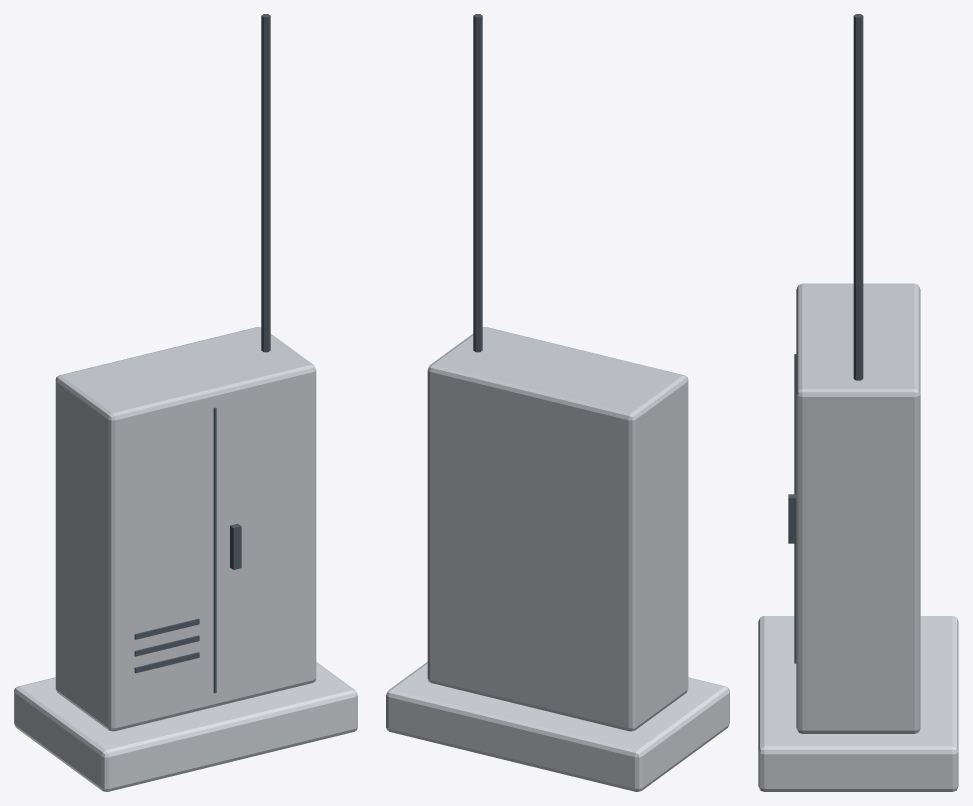
The model's file is plc-cabinet.glb.
The picture shows the model from 3 angles, left to right: view 1: azimuth 30°, elevation 25°; view 2: azimuth 150°, elevation 25°; view 3: azimuth 270°, elevation 25°; orthographic projection. The views are drawn at different scales.
Parts seen in each view (by area): view 1: CabinetBody, CabinetPlinth, CabinetDetails; view 2: CabinetBody, CabinetPlinth, CabinetDetails; view 3: CabinetBody, CabinetPlinth, CabinetDetails.
Boxes of the visible parts, x1,y1,x2,y2 form: CabinetBody: [55, 327, 316, 731]; CabinetPlinth: [14, 662, 357, 791]; CabinetDetails: [134, 14, 270, 693]; CabinetBody: [427, 327, 688, 731]; CabinetPlinth: [386, 662, 729, 791]; CabinetDetails: [473, 14, 482, 352]; CabinetBody: [796, 283, 920, 733]; CabinetPlinth: [758, 616, 958, 791]; CabinetDetails: [788, 14, 863, 663].
Size of the model in its own units: 1.6 by 4.15 by 0.9999.
Materials: 2 (2 with a texture image).
